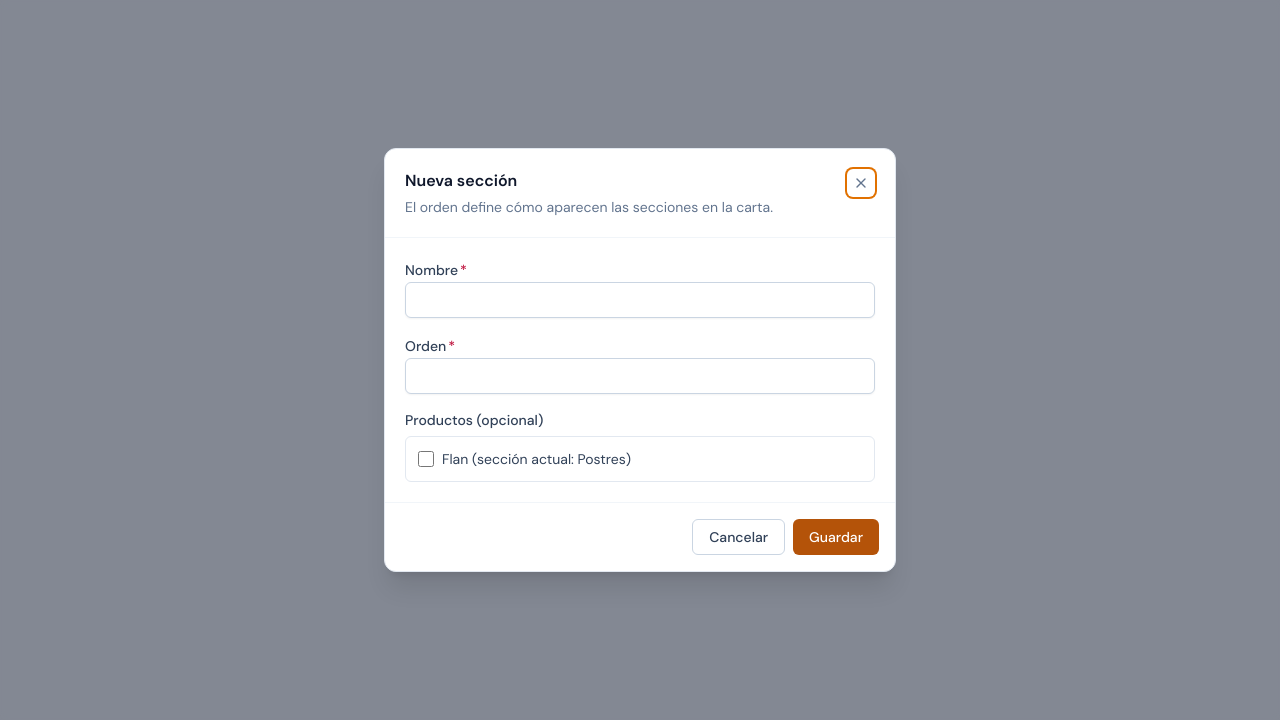
Test: SeccionFormDialog: validación y alta › con campos vacíos no envía y marca qué falta (CA 2)
Click the button "Guardar".
click(836, 537)  # box [793,519,879,555]
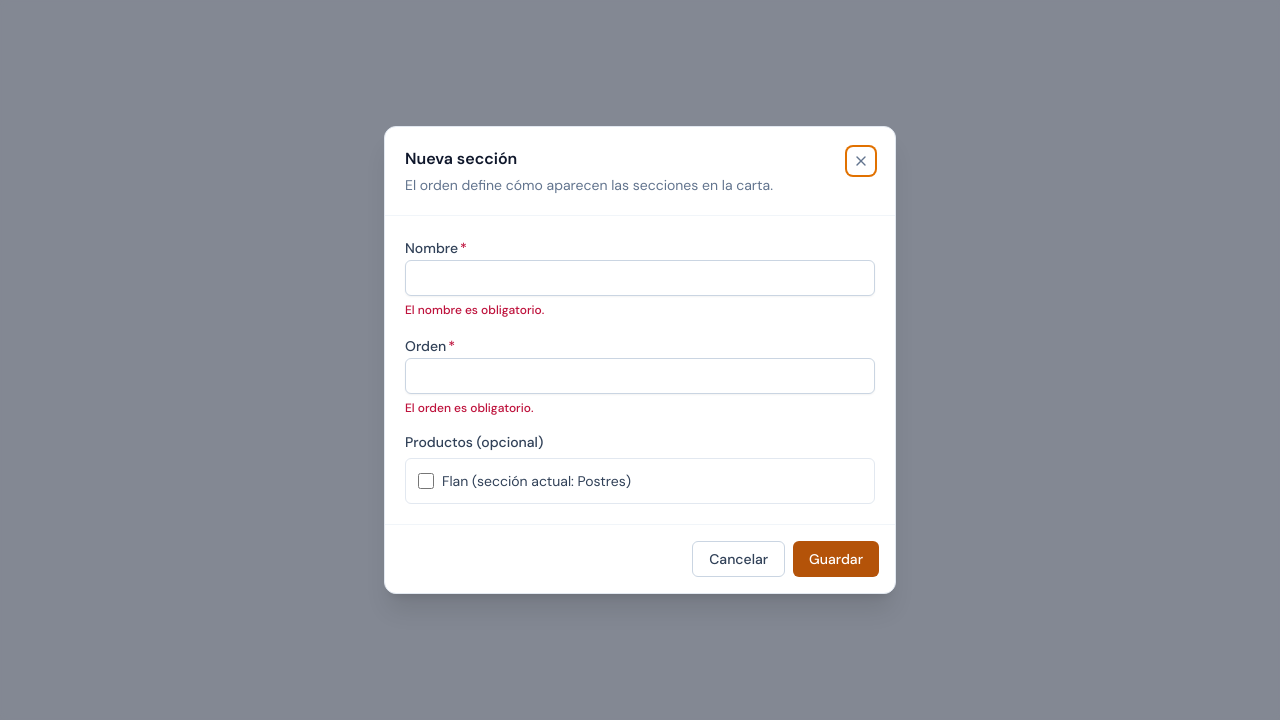
Check: the text "El nombre es obligatorio." is shown, box [405,302,544,318]
Check: the text "El orden es obligatorio." is shown, box [405,400,534,416]
